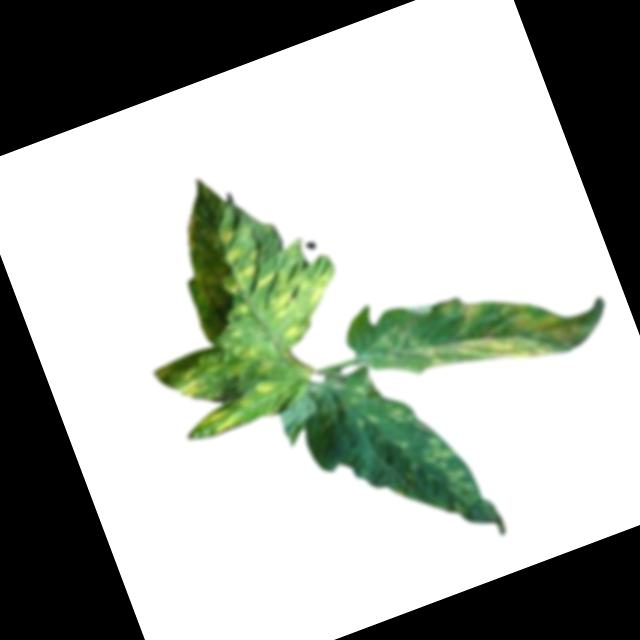Leaf_Mold: (93, 142, 360, 413), (402, 258, 590, 403), (410, 424, 485, 524), (194, 395, 257, 441)
